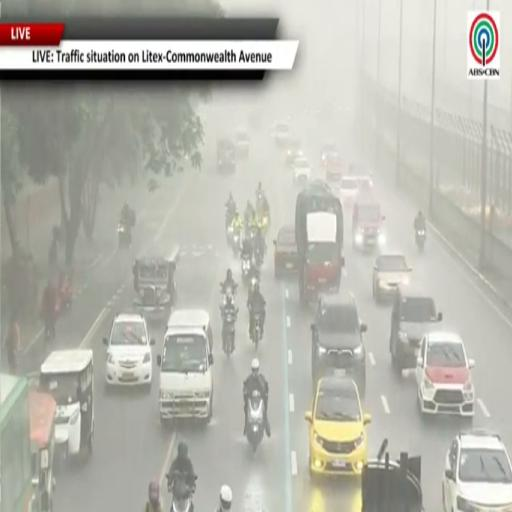bus: (0, 374, 33, 511)
car: (305, 377, 371, 476), (157, 311, 213, 423), (39, 349, 94, 458), (312, 293, 367, 396), (442, 429, 511, 511), (416, 331, 474, 419), (390, 290, 443, 374), (104, 313, 154, 388), (167, 309, 213, 353), (352, 194, 386, 250), (373, 253, 411, 301), (274, 226, 297, 278), (323, 152, 345, 184), (218, 138, 236, 173), (339, 176, 359, 207), (286, 137, 303, 168), (293, 156, 311, 185), (271, 121, 291, 147), (235, 127, 250, 157), (321, 142, 337, 165), (356, 175, 373, 194), (286, 149, 303, 168)
jeepney: (29, 390, 56, 511), (134, 248, 179, 318)
motorcycle: (246, 390, 264, 452), (167, 472, 195, 511), (221, 308, 238, 358), (250, 312, 261, 349), (221, 283, 237, 307), (227, 226, 240, 255), (248, 266, 259, 297), (241, 254, 252, 285), (118, 222, 131, 248), (255, 239, 266, 268), (231, 229, 240, 255), (415, 230, 426, 251), (259, 213, 269, 236), (225, 206, 235, 228), (227, 226, 233, 246)
truck: (295, 180, 344, 305), (361, 440, 423, 511)
